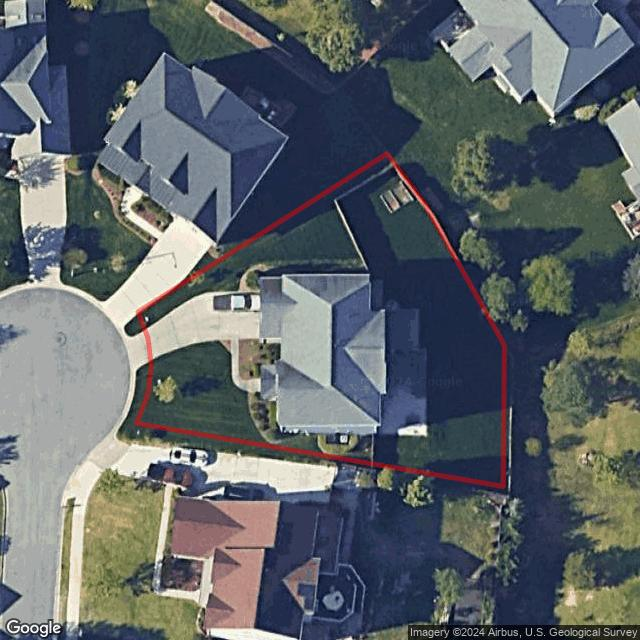Driveway: (143, 291, 280, 362), (231, 339, 262, 392)
Extra-Driveway: (131, 331, 149, 369)
Extra-Lawn: (124, 361, 152, 424), (125, 314, 147, 337)
House: (261, 274, 387, 435)
Lawn: (138, 154, 506, 486)
Other: (370, 279, 427, 435), (239, 258, 368, 292), (247, 391, 281, 444), (238, 339, 281, 380), (380, 180, 414, 213), (319, 434, 358, 458)
